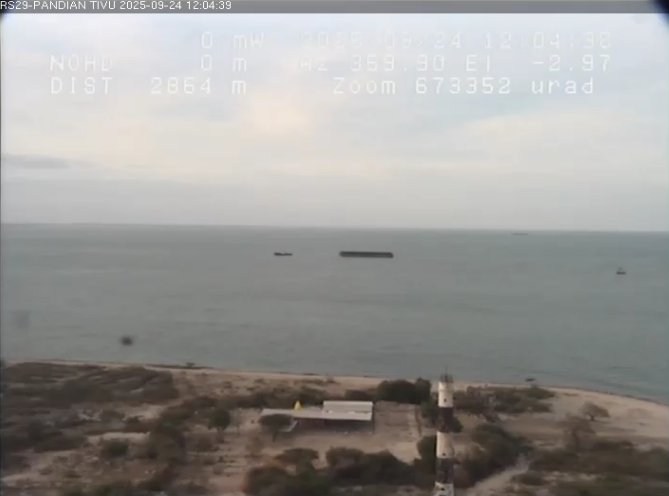BARGE: (331, 241, 404, 269)
FISHING_BOAT: (605, 261, 629, 280)
OFFSHORE_SUPPLY_VESSEL: (264, 245, 301, 261)
TOWING: (243, 218, 425, 296)
